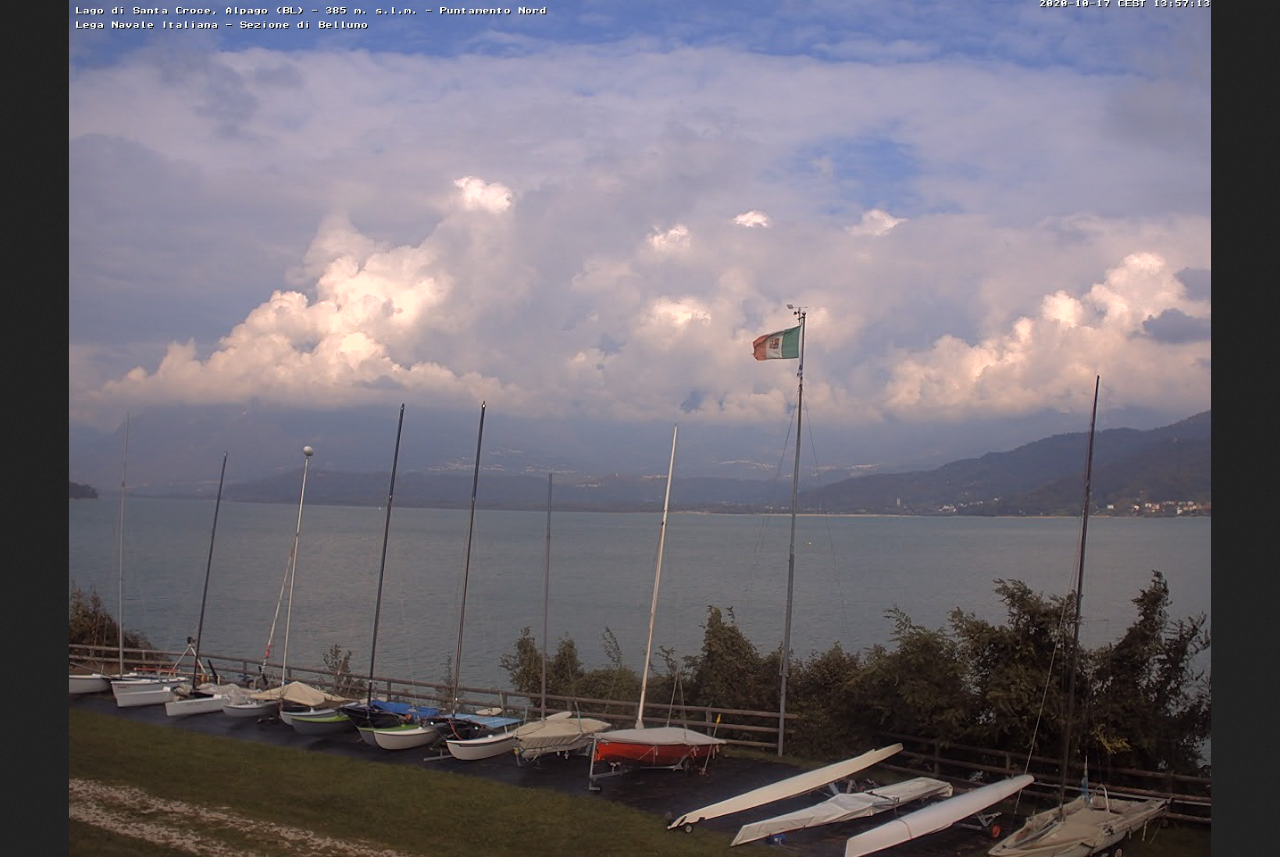yes: (750, 312, 807, 370)
